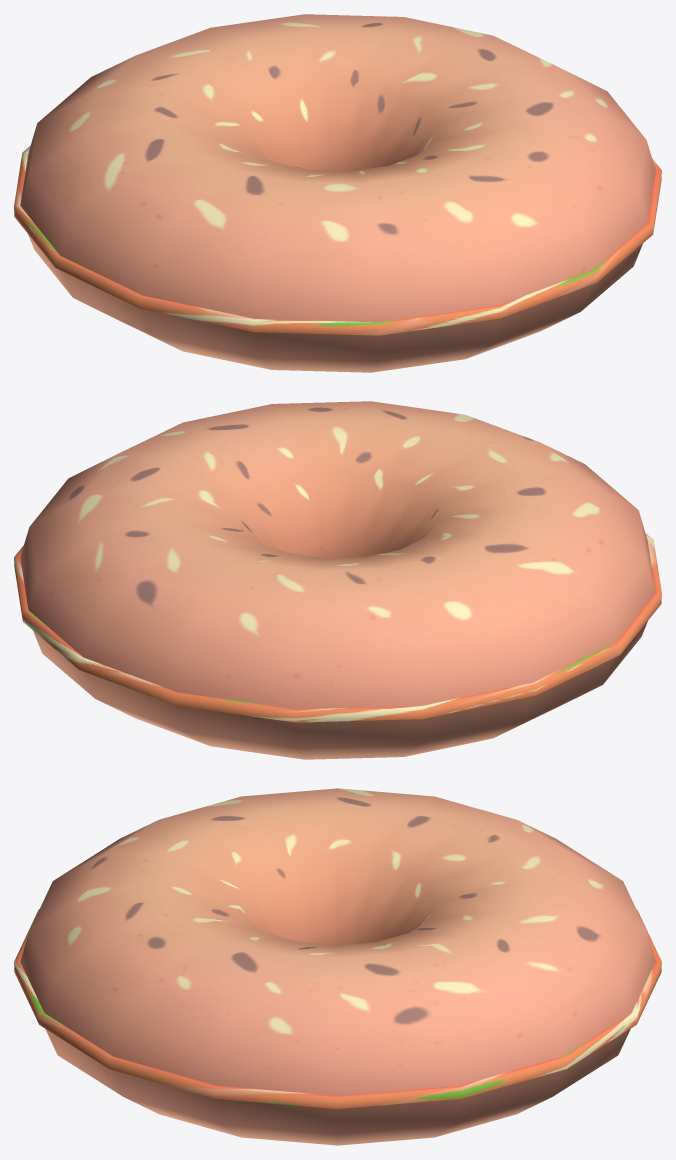
The model's file is bagel.fbx.
3 views of the same model, one above another, from view 1: azimuth 30°, elevation 25°; view 2: azimuth 150°, elevation 25°; view 3: azimuth 270°, elevation 25° (orthographic).
Parts seen in each view (by area): view 1: bagel; view 2: bagel; view 3: bagel.
Part boxes in pixels (x1,y1,x2,y2): bagel: (14, 14, 661, 372); bagel: (14, 401, 661, 759); bagel: (14, 788, 661, 1145).
Size of the model in its own units: 58.86 by 15.64 by 58.86.
